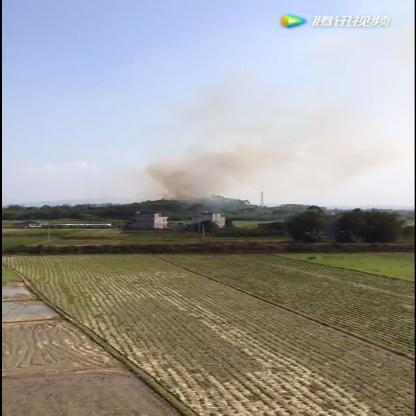smoke: (139, 138, 265, 202)
